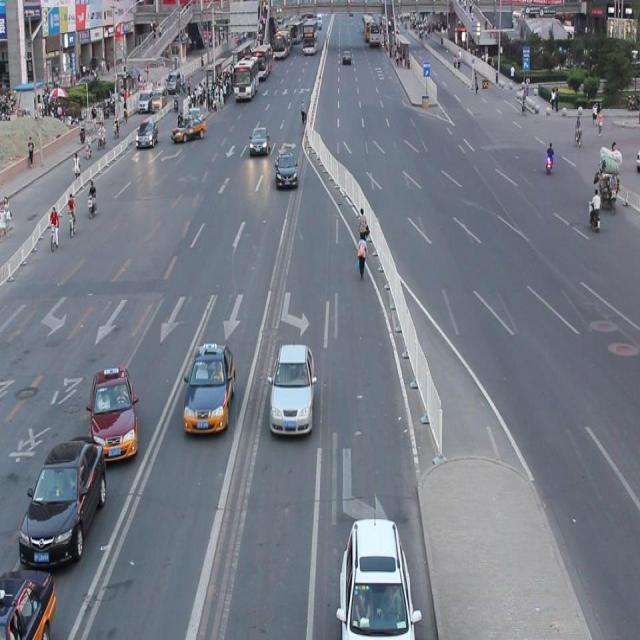car: (19, 432, 107, 566), (339, 515, 414, 640), (183, 342, 236, 438), (88, 364, 139, 457), (270, 342, 316, 438), (1, 565, 55, 640), (275, 149, 299, 191)
